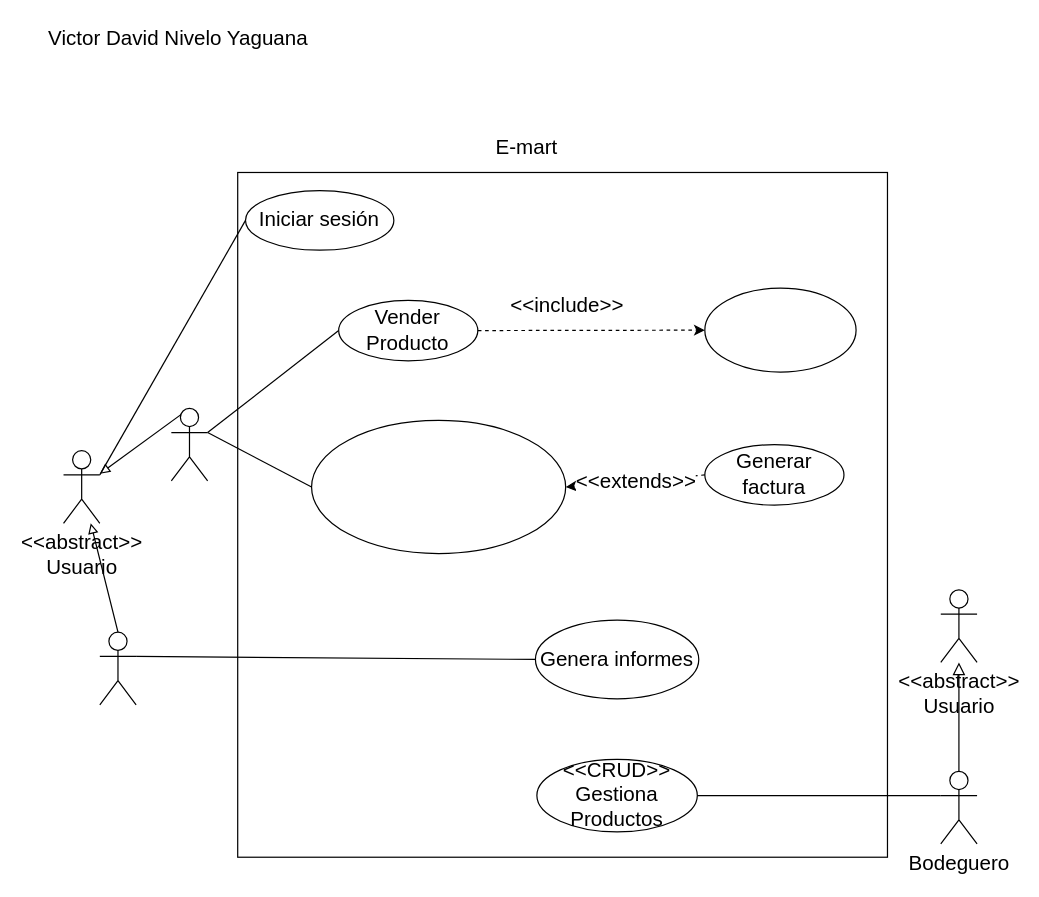
This 1039x897 diagram has some shape labels left out. The shapes that lost their labels are listed below. From the top down, each one's box as (x1, y1, x2, y2) in pixels, then its label:
(704, 287, 856, 372): Verificar stock
(170, 407, 208, 481): Vendedor
(310, 419, 566, 554): Administrar ventas extension point cliente solicita factura
(99, 631, 136, 705): Gerente
